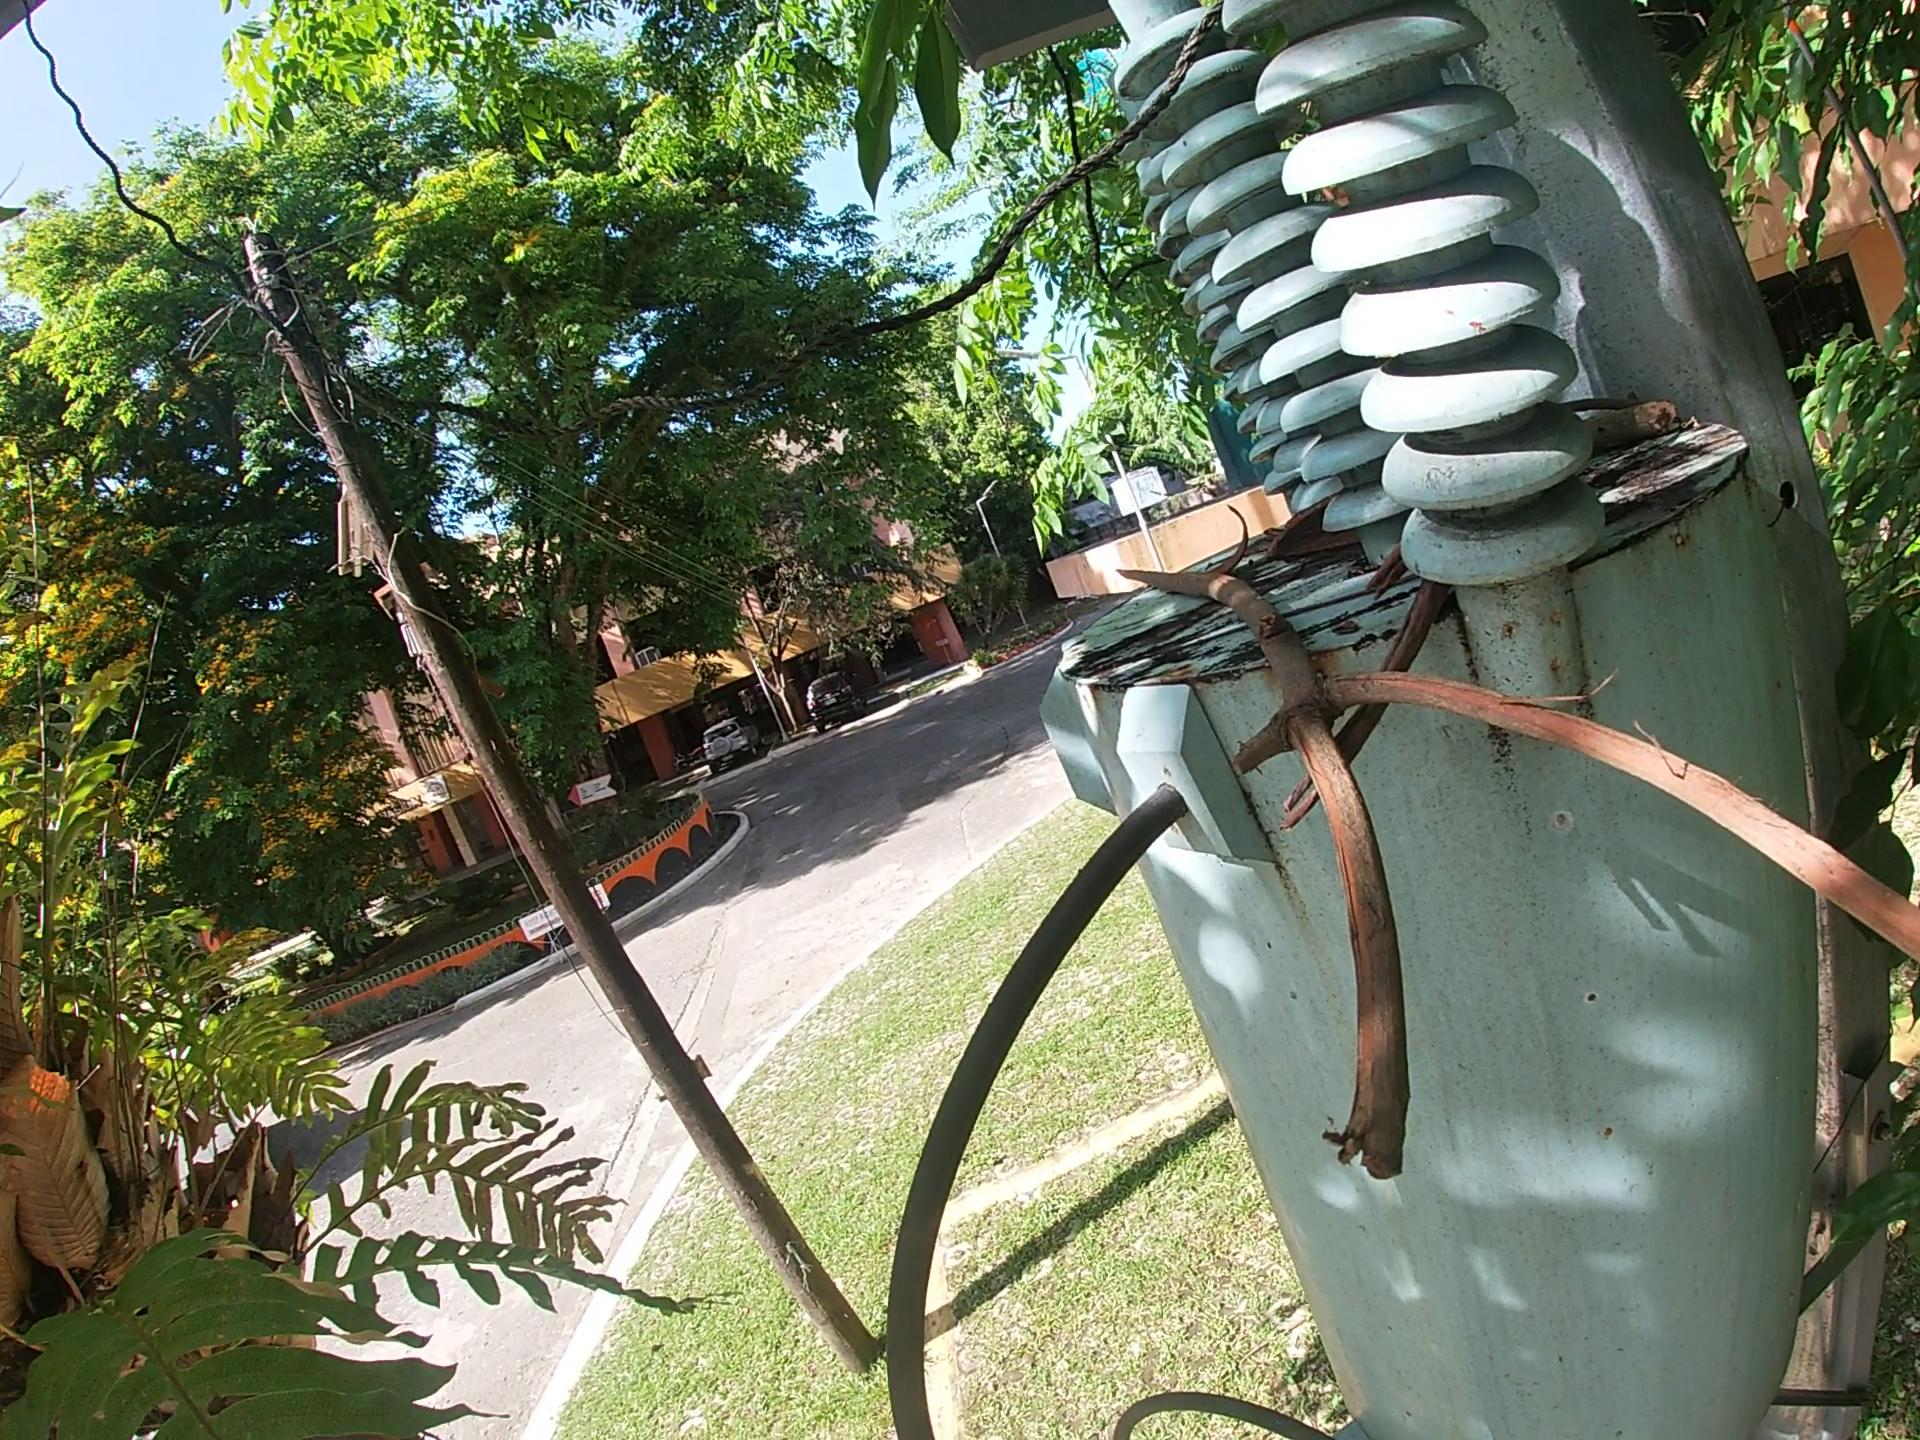mahogany fruit: (1259, 490, 1370, 564), (1214, 502, 1253, 576)
tree branch: (1113, 560, 1920, 1190), (1270, 542, 1448, 841), (1575, 387, 1684, 458)
